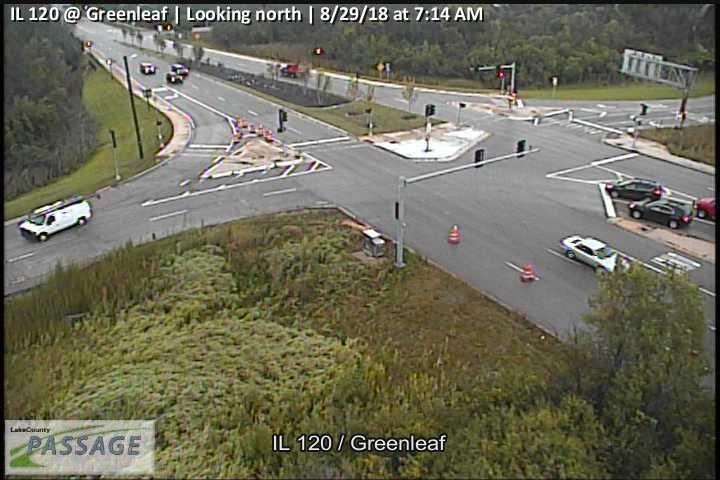SUV: (18, 195, 92, 242), (627, 197, 694, 229), (605, 178, 664, 202)
Sedan: (559, 234, 631, 277)
